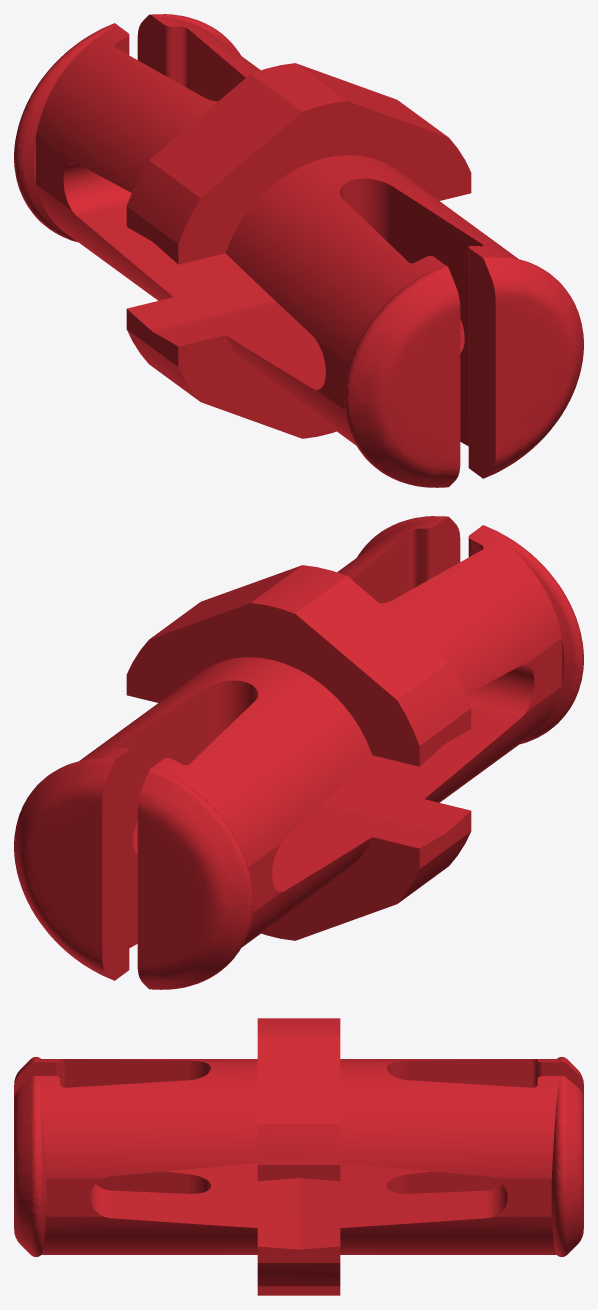
The model's file is 1x1 Connector Pin (Weak) (228-2500-2260).glb.
3 renders of one model, top to bottom at view 1: azimuth 30°, elevation 25°; view 2: azimuth 150°, elevation 25°; view 3: azimuth 270°, elevation 25°, orthographic. The views are drawn at different scales.
Visible parts, largest first — view 1: 1x1 Connector Pin (Weak) (228-2500-2260); view 2: 1x1 Connector Pin (Weak) (228-2500-2260); view 3: 1x1 Connector Pin (Weak) (228-2500-2260).
Boxes of the visible parts, x1,y1,x2,y2 form: 1x1 Connector Pin (Weak) (228-2500-2260): [14, 14, 583, 487]; 1x1 Connector Pin (Weak) (228-2500-2260): [14, 516, 583, 989]; 1x1 Connector Pin (Weak) (228-2500-2260): [14, 1018, 583, 1295].
Bounding box in the file's own units: 0.2283 × 0.2458 × 0.4834.
